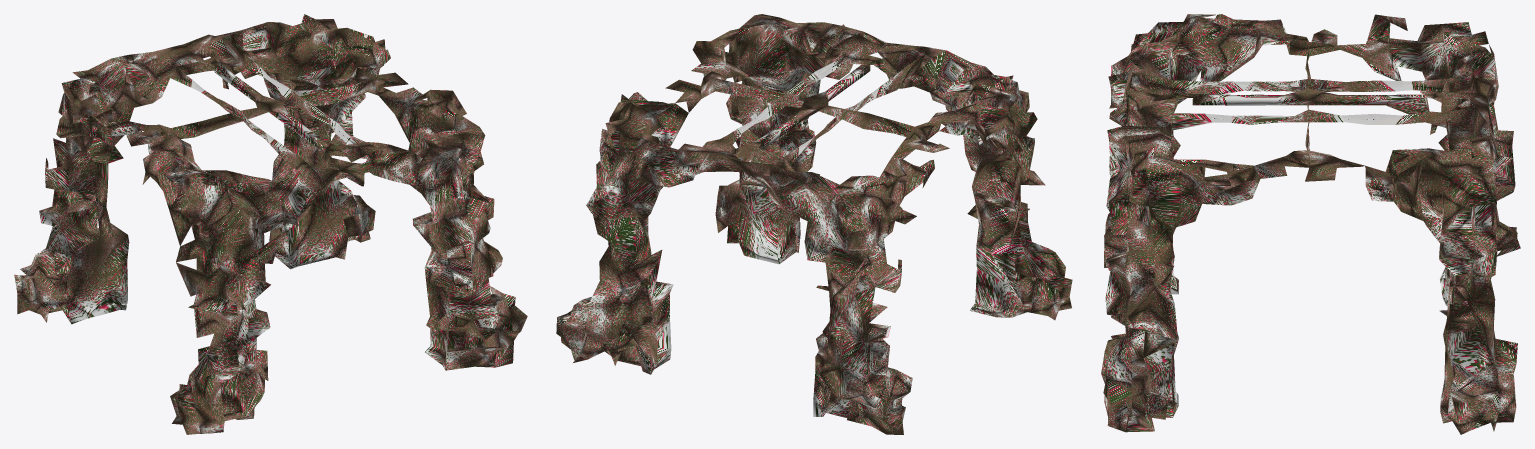
File: arch.glb
3 renders of one model, left to right at view 1: azimuth 30°, elevation 25°; view 2: azimuth 150°, elevation 25°; view 3: azimuth 270°, elevation 25°, orthographic. The views are drawn at different scales.
Size of the model in its own units: 1.85 by 1.21 by 1.76.
1 material, 1 textured.
